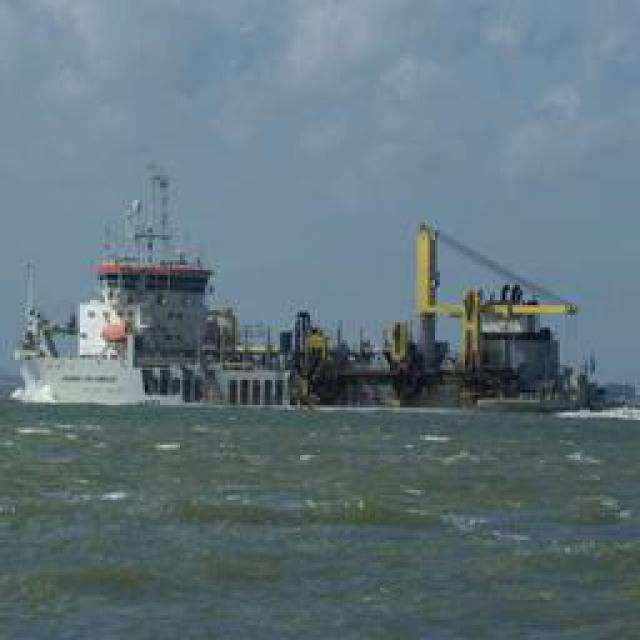Ship: (10, 176, 623, 421)
